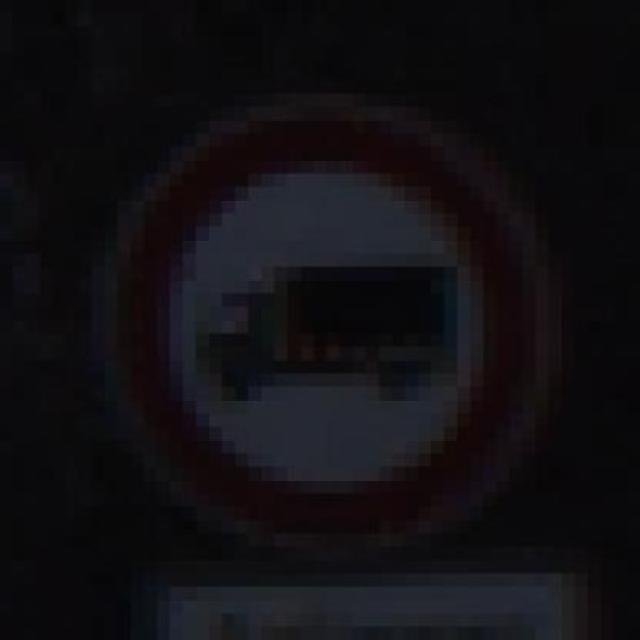Truck traffic is prohibited: (90, 80, 562, 560)
